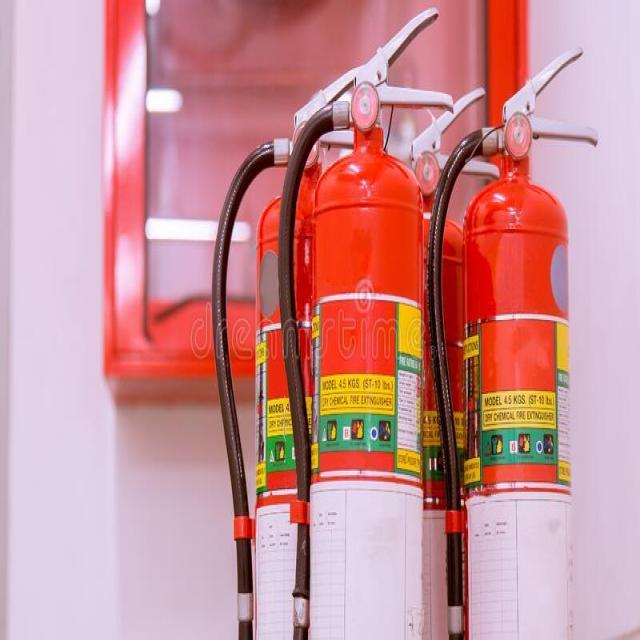fire_extinguisher: (271, 3, 460, 638), (205, 61, 388, 639), (427, 39, 601, 638)
